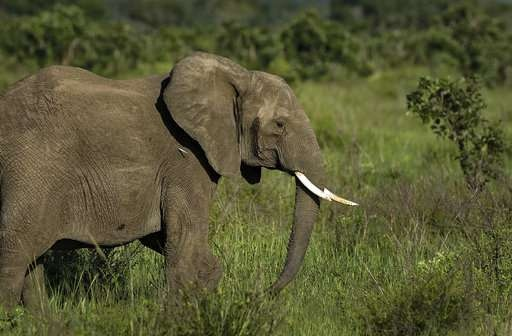elephant: (3, 50, 357, 309)
